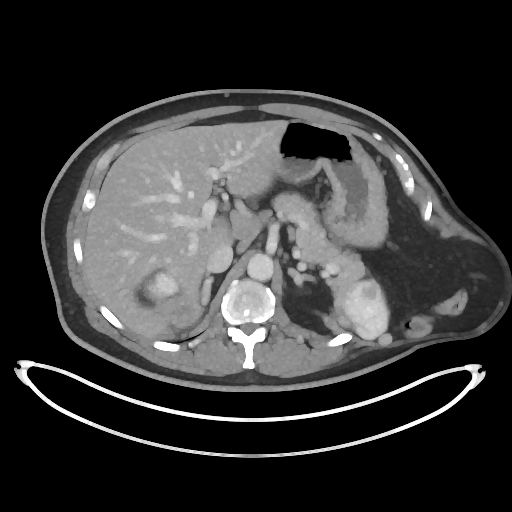Lesion: (374, 328, 395, 350), (359, 283, 381, 301)
